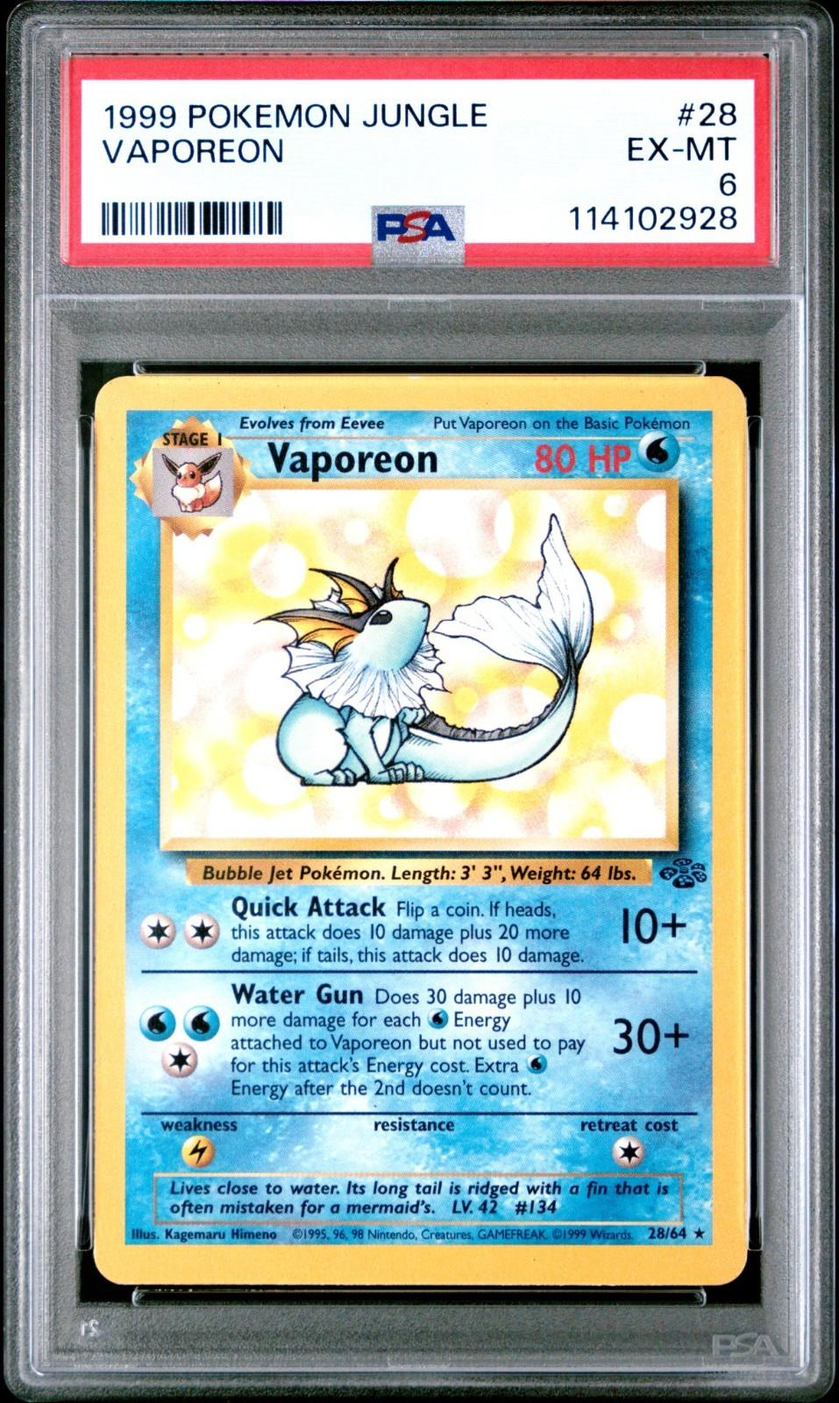card-2UtV: (92, 375, 749, 1286)
